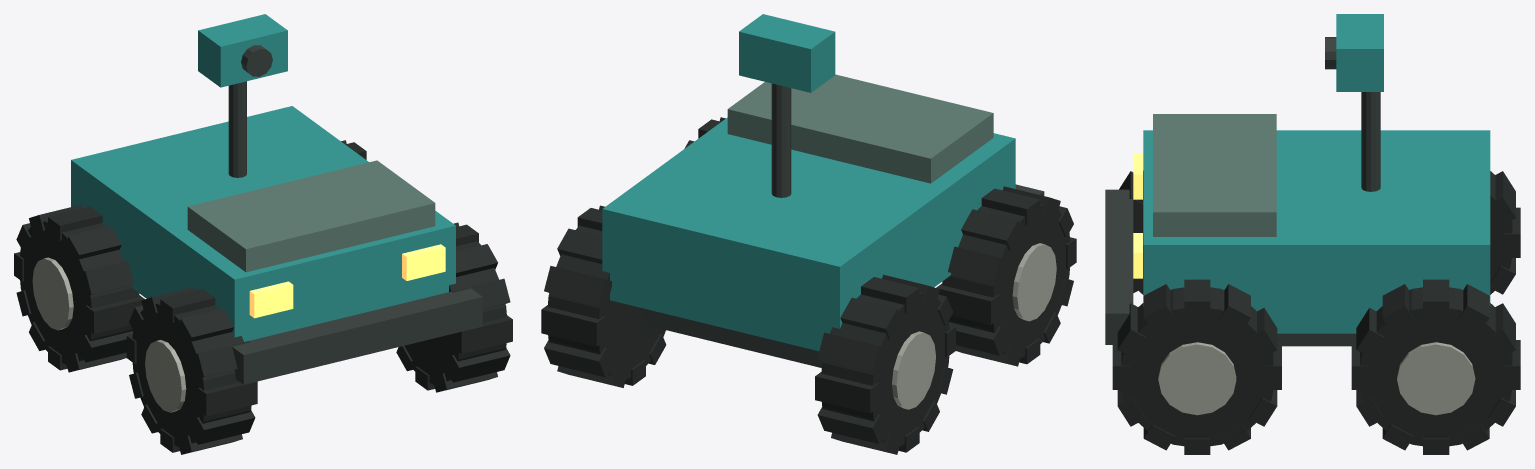
Rendered from rover.glb.
3 views of the same model, side by side, from view 1: azimuth 30°, elevation 25°; view 2: azimuth 150°, elevation 25°; view 3: azimuth 270°, elevation 25° (orthographic). The views are drawn at different scales.
Visible parts, largest first — view 1: Rover body, Rover hood, Front bumper, Rover tire.001, Rover tire, Rover camera, Rover tire.002, Wheel hub.001, Wheel hub, Camera mast, Tire tread.009, Tire tread.033 (+18 smaller); view 2: Rover body, Rover hood, Rover tire.001, Rover tire, Rover camera, Rover tire.003, Rover undercarriage, Wheel hub, Wheel hub.001, Camera mast, Tire tread.039, Tire tread.015 (+15 smaller); view 3: Rover body, Rover hood, Rover tire.002, Rover tire.003, Wheel hub.002, Wheel hub.003, Front bumper, Rover camera, Camera mast, Rover tire.001, Tire tread.035, Tire tread.024 (+28 smaller).
Boxes of the visible parts, box(x1,y1,x2,y2) form: Rover body: box(71, 106, 455, 341); Rover hood: box(187, 160, 435, 272); Front bumper: box(232, 288, 482, 384); Rover tire.001: box(20, 220, 139, 364); Rover tire: box(132, 303, 251, 446); Rover camera: box(198, 14, 287, 87); Rover tire.002: box(404, 241, 506, 384); Wheel hub.001: box(32, 257, 73, 330); Wheel hub: box(145, 340, 186, 412); Camera mast: box(228, 81, 246, 177); Tire tread.009: box(198, 381, 257, 416); Tire tread.033: box(453, 315, 512, 353); Rover body: box(602, 117, 1015, 351); Rover hood: box(727, 74, 993, 183); Rover tire.001: box(821, 292, 949, 446); Rover tire: box(942, 203, 1070, 357); Rover camera: box(739, 14, 835, 92); Rover tire.003: box(547, 225, 665, 379); Rover undercarriage: box(642, 308, 822, 367); Wheel hub: box(1012, 243, 1056, 321); Wheel hub.001: box(892, 331, 935, 409); Camera mast: box(771, 83, 791, 197); Tire tread.039: box(541, 305, 605, 346); Tire tread.015: box(815, 372, 878, 413); Rover body: box(1143, 130, 1490, 333); Rover hood: box(1153, 114, 1276, 236); Rover tire.002: box(1121, 287, 1273, 446); Rover tire.003: box(1360, 287, 1512, 446); Wheel hub.002: box(1158, 342, 1236, 415); Wheel hub.003: box(1397, 342, 1475, 415); Front bumper: box(1105, 189, 1133, 344); Rover camera: box(1336, 14, 1383, 91); Camera mast: box(1361, 92, 1380, 191); Rover tire.001: box(1490, 171, 1512, 294); Tire tread.035: box(1143, 284, 1174, 331); Tire tread.024: box(1184, 279, 1210, 317).
Bounding box in the file's own units: 1.77 × 1.75 × 1.91.
